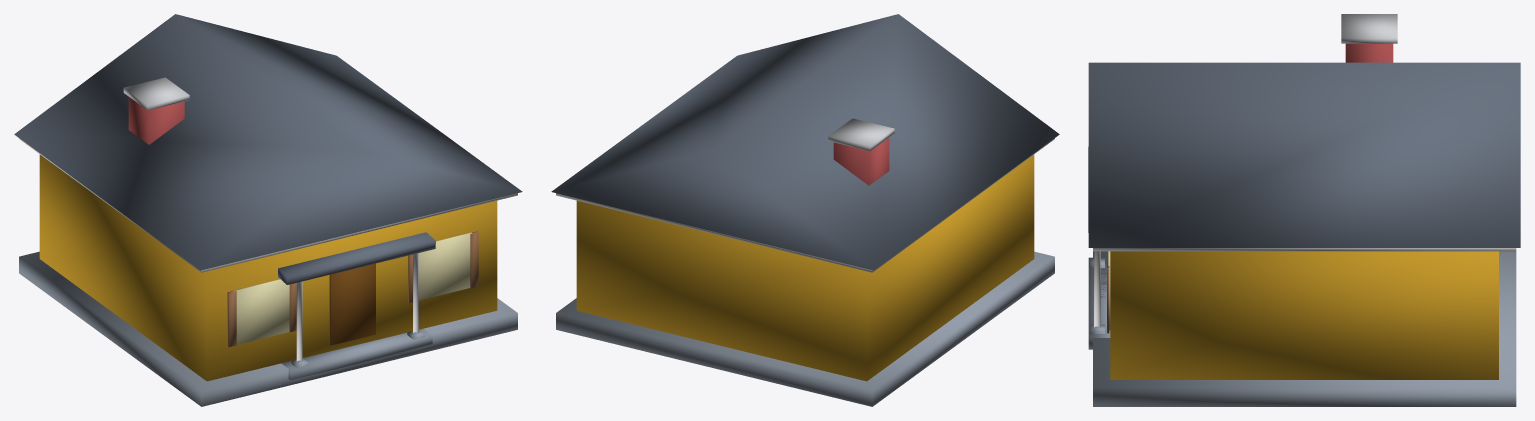
Rendered from ranch-house.glb.
The picture shows the model from 3 angles, left to right: view 1: azimuth 30°, elevation 25°; view 2: azimuth 150°, elevation 25°; view 3: azimuth 270°, elevation 25°; orthographic projection. The views are drawn at different scales.
Parts seen in each view (by area): view 1: world; view 2: world; view 3: world.
Part boxes in pixels (x1=…): world: x1=14, y1=14, x2=522, y2=406; world: x1=551, y1=14, x2=1059, y2=406; world: x1=1088, y1=14, x2=1520, y2=406.
Size of the model in its own units: 10 by 6.5 by 10.
